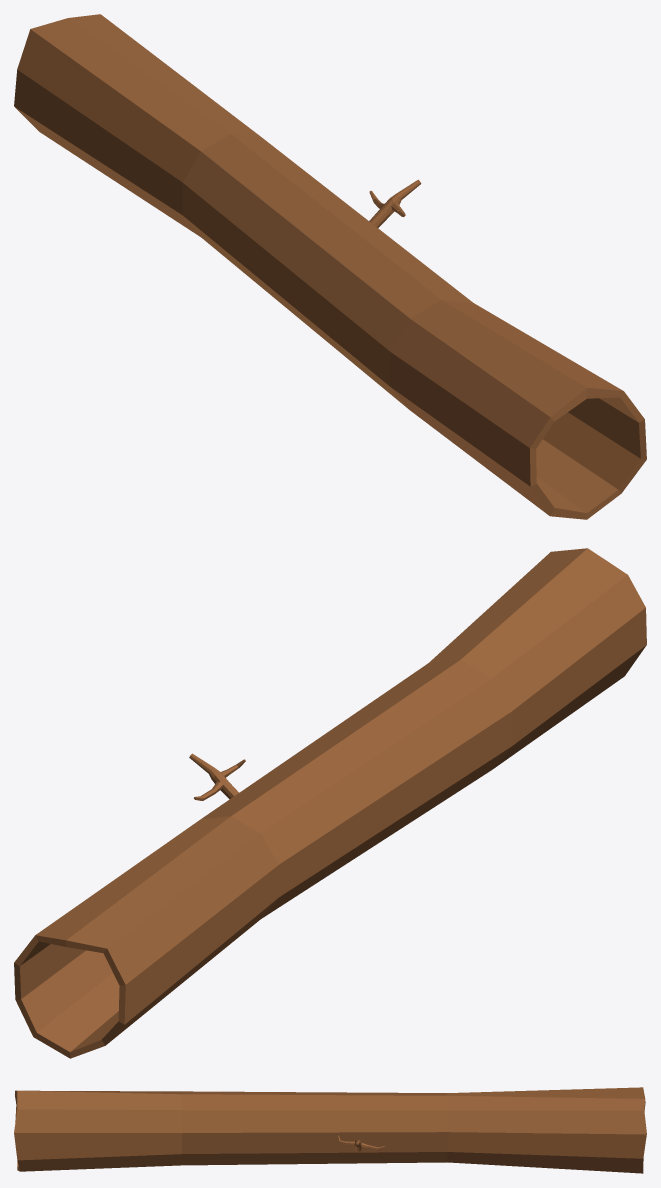
The model's file is Billet_02.fbx.
3 views of the same model, one above another, from view 1: azimuth 30°, elevation 25°; view 2: azimuth 150°, elevation 25°; view 3: azimuth 270°, elevation 25° (orthographic). The views are drawn at different scales.
Parts seen in each view (by area): view 1: Billet_02; view 2: Billet_02; view 3: Billet_02.
Boxes of the visible parts, left/top/right/bottom form: Billet_02: left=14, top=14, right=646, bottom=519; Billet_02: left=14, top=548, right=646, bottom=1058; Billet_02: left=14, top=1087, right=646, bottom=1173.
Size of the model in its own units: 86.75 by 62.02 by 447.
